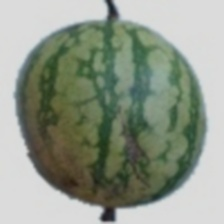watermelon: (39, 14, 200, 193)
